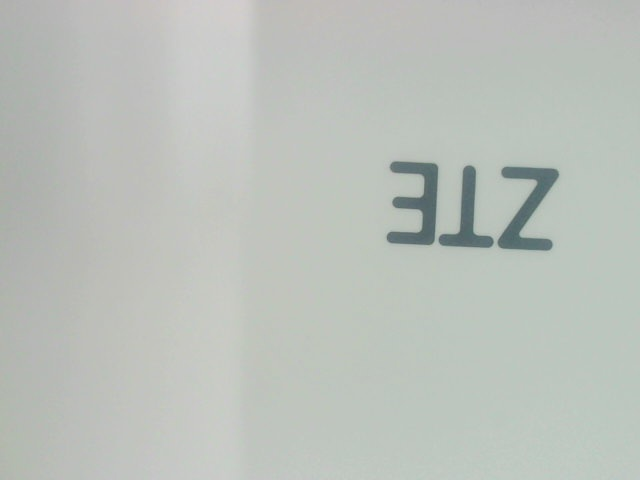AN_ZTELarge: (382, 145, 564, 262)
